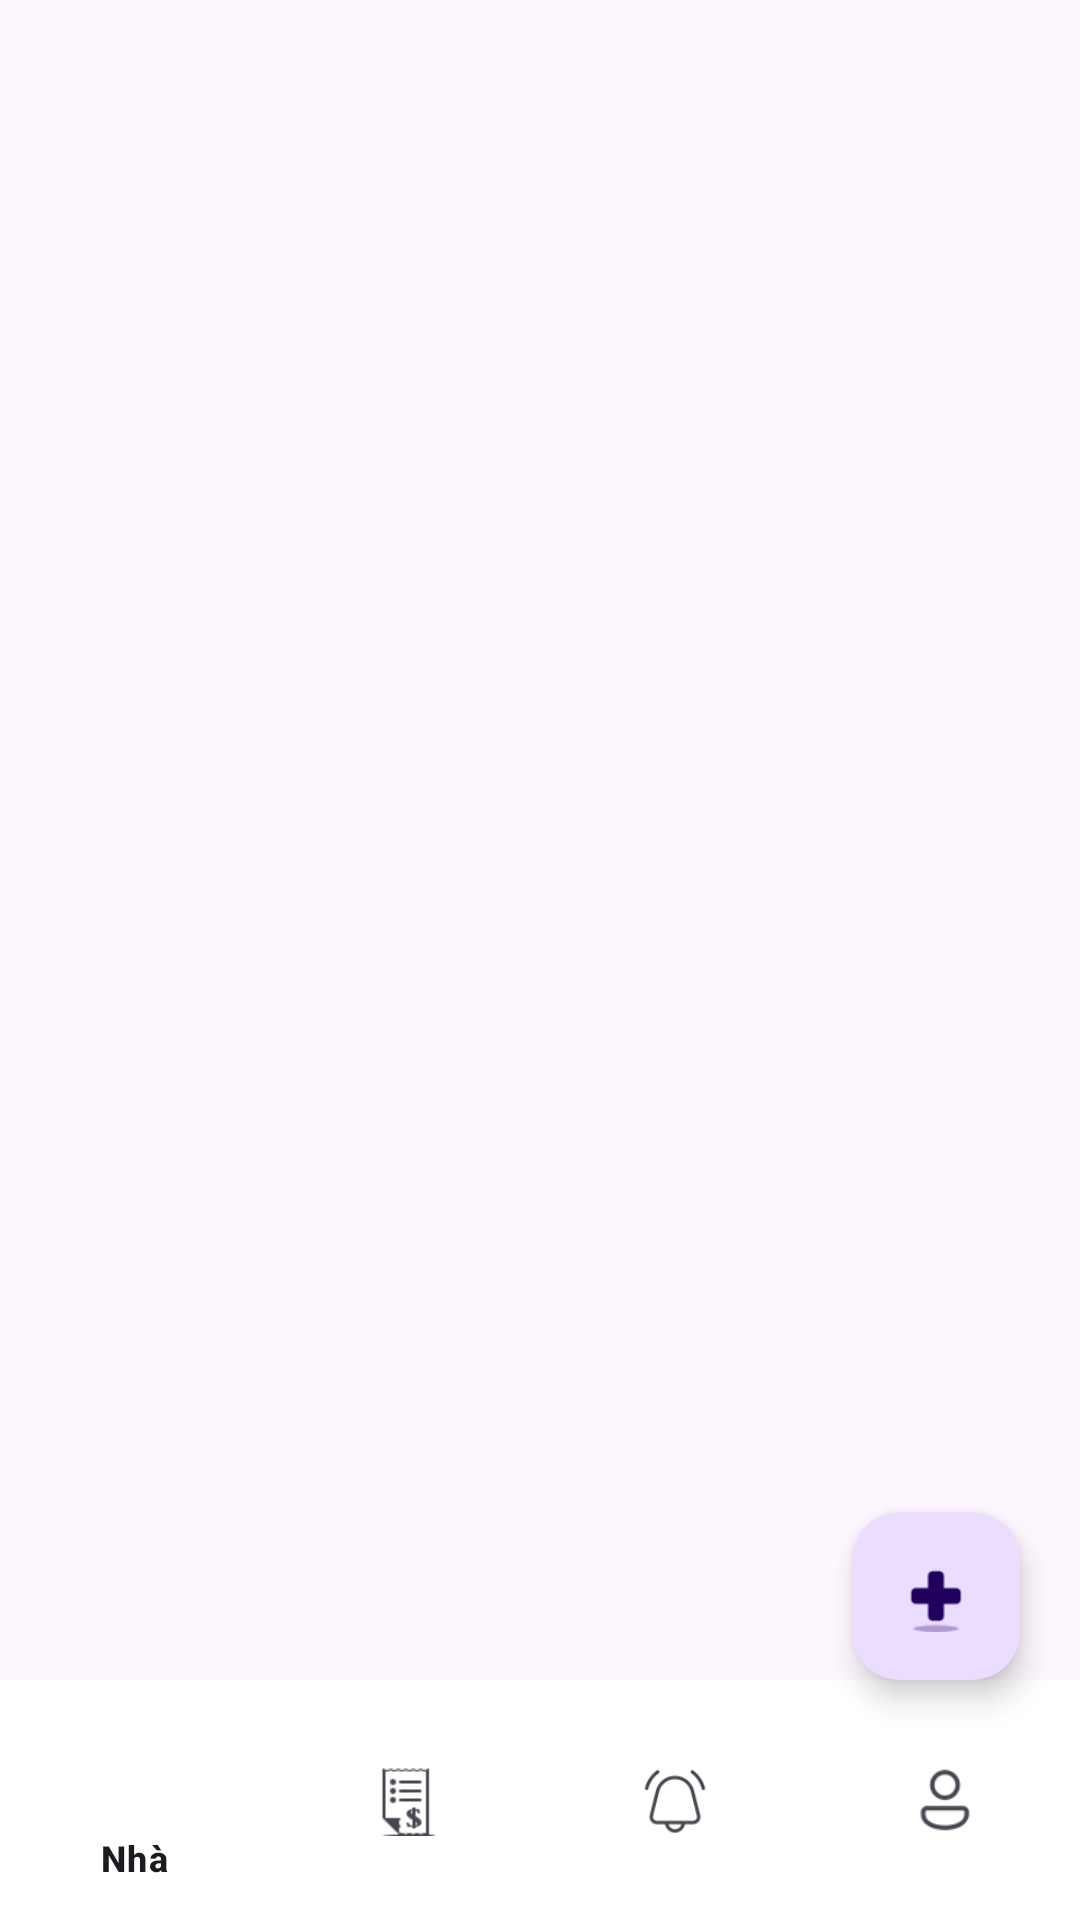

Where to tap for icons on this 1080w x 1920h app screen, as [x,y]:
add: [936,1596]
